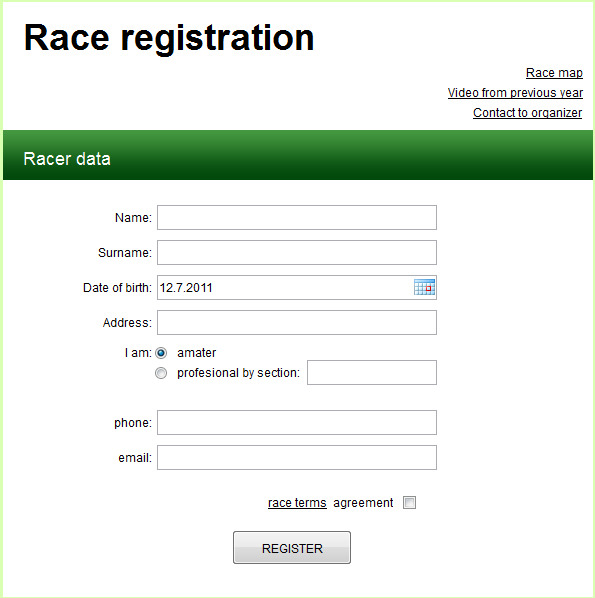_form_: (62, 163, 478, 579)
button: (230, 530, 352, 565)
checkbox: (398, 493, 421, 511)
checkbox_with_label: (267, 491, 424, 513)
field: (152, 308, 438, 336), (154, 408, 438, 436), (153, 443, 437, 471), (155, 239, 438, 266), (155, 274, 437, 301), (156, 205, 437, 230), (304, 359, 437, 386)
field_with_label: (103, 306, 440, 338), (84, 273, 439, 302), (120, 441, 439, 473), (115, 406, 439, 437), (97, 238, 439, 267), (115, 203, 438, 232), (175, 359, 439, 388)
radio: (154, 364, 170, 383), (154, 345, 171, 360)
radio_with_label: (151, 362, 296, 386), (150, 344, 217, 363)
